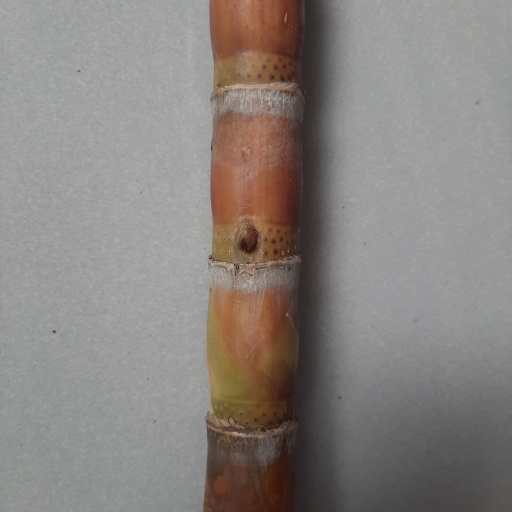Bud: (234, 223, 259, 255)
